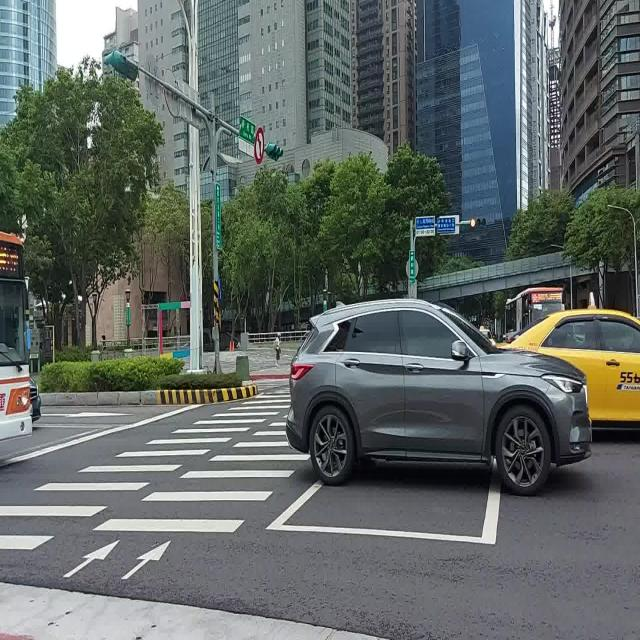bus: (0, 231, 32, 439), (505, 287, 565, 340)
car: (286, 300, 591, 496), (511, 309, 640, 424)
crosswalk: (0, 382, 292, 551), (90, 410, 309, 533)
